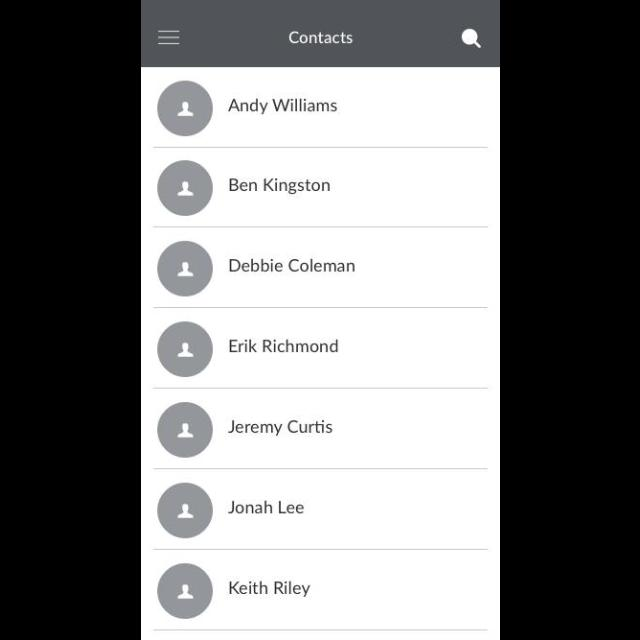icon: (157, 161, 213, 217), (157, 322, 213, 378), (157, 483, 213, 539), (158, 241, 212, 297), (158, 402, 212, 458), (158, 82, 212, 136), (158, 564, 212, 618), (461, 29, 482, 49), (157, 30, 180, 46)
text: (230, 258, 354, 274), (227, 99, 337, 115), (230, 178, 330, 195), (228, 419, 332, 435), (228, 338, 338, 352), (228, 580, 310, 596), (228, 502, 304, 514), (289, 32, 353, 44)
toolbar: (141, 1, 499, 68)
